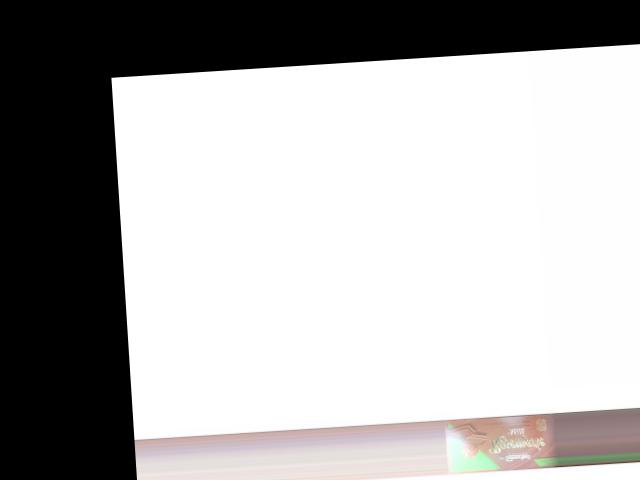chocolate: (446, 413, 559, 472)
